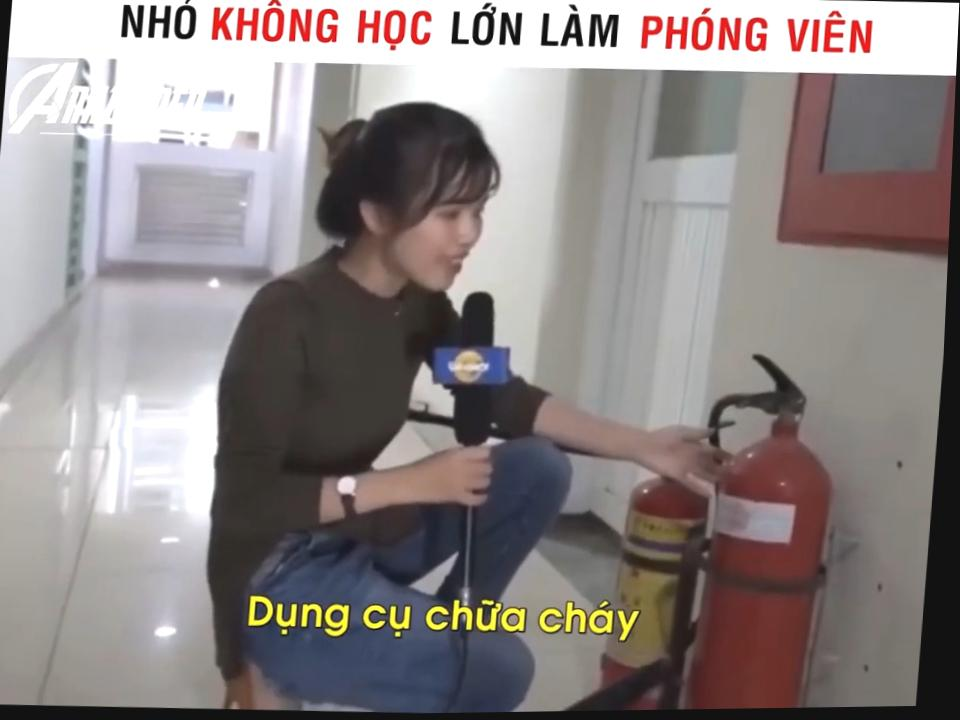FireExtinguisher: (691, 367, 851, 712), (592, 454, 698, 713)
